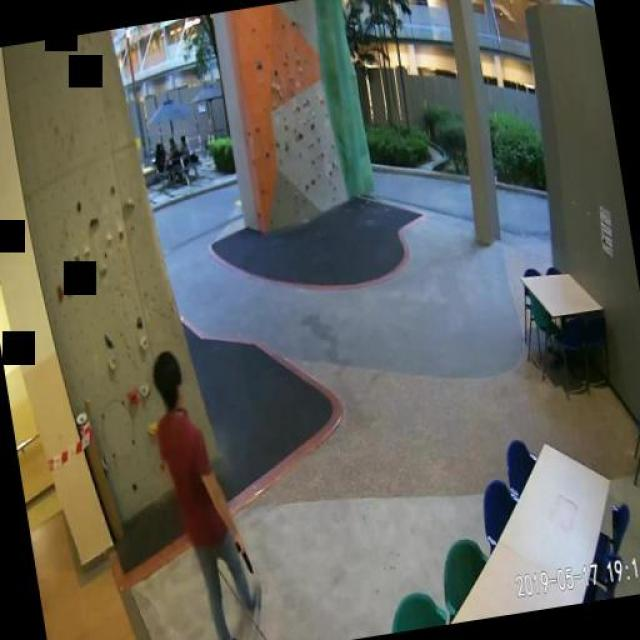gun: (228, 530, 252, 575)
